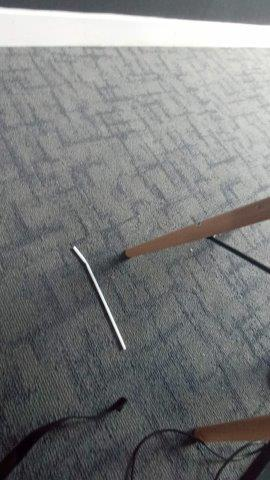sedotan: (73, 247, 126, 350)
